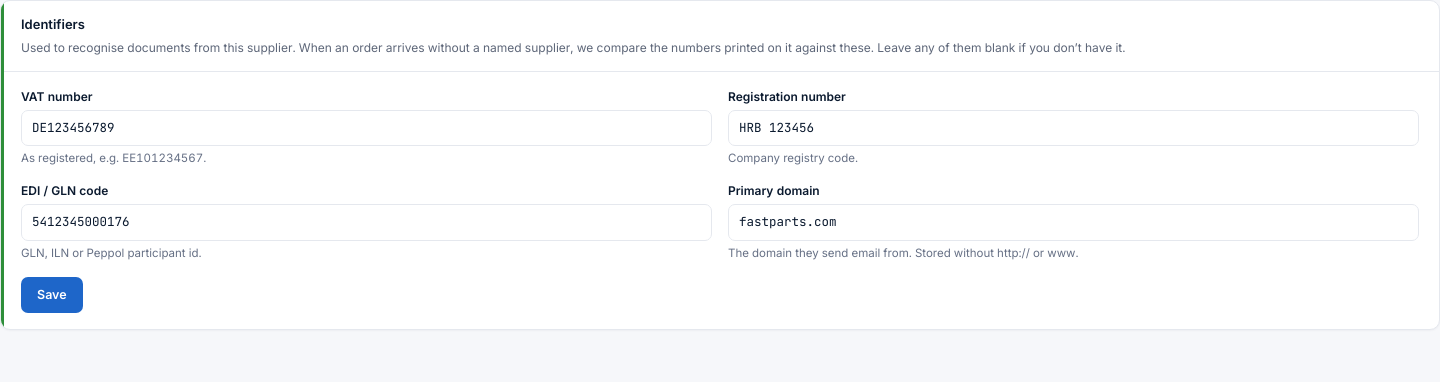
Test: SupplierIdentityCard › reports a failed save instead of pretending it worked
The image size is (1440, 382).
Replace the text in the field labelled "VAT number" with "EE1" at (366, 128), box left=21, top=110, right=712, bottom=146
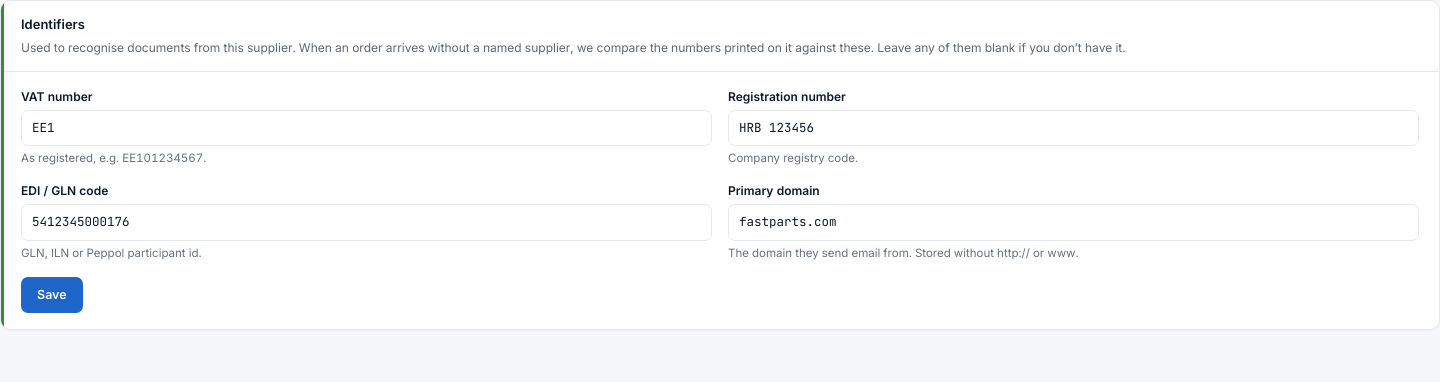
Click the button "Save" at (52, 295), box left=21, top=277, right=83, bottom=313
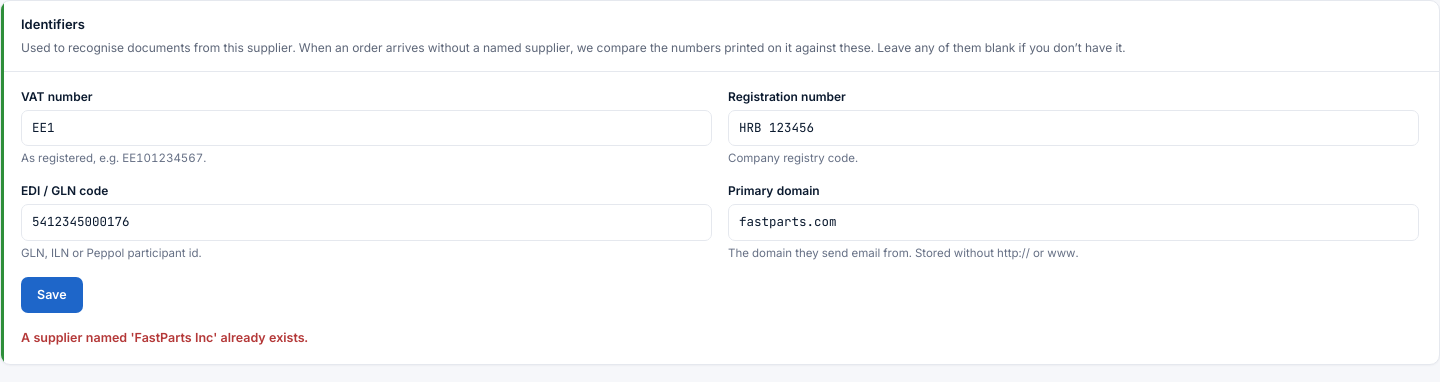
expect the text "A supplier named 'FastParts Inc' already exists." is shown: met, box left=21, top=330, right=308, bottom=345
